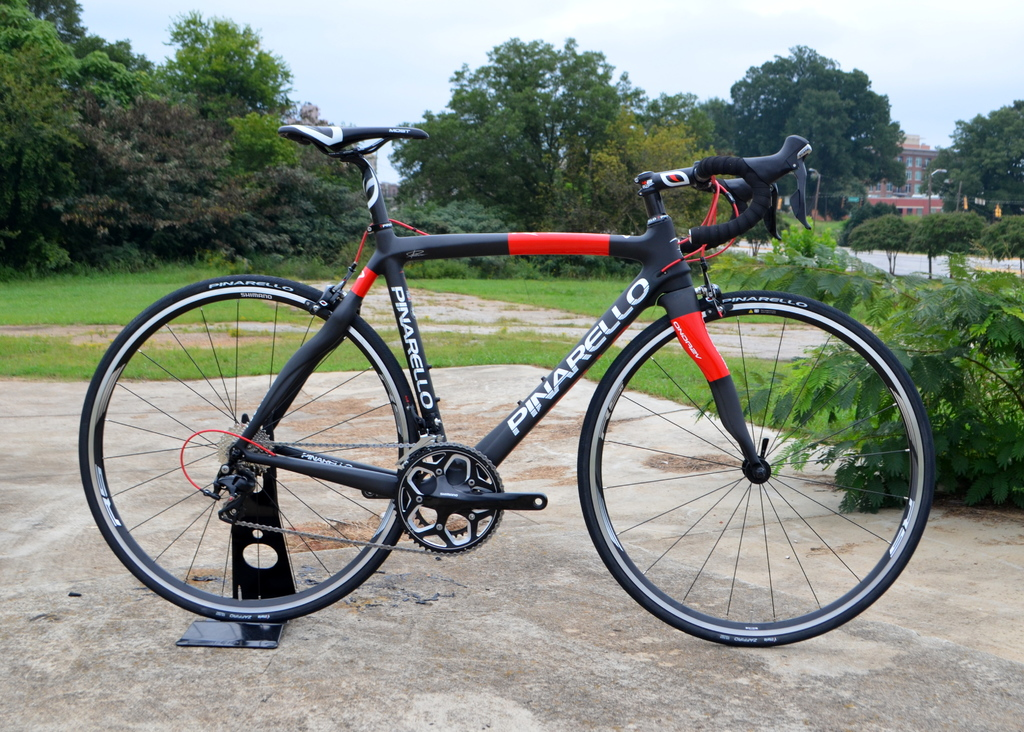Bicycle: (78, 122, 939, 650)
